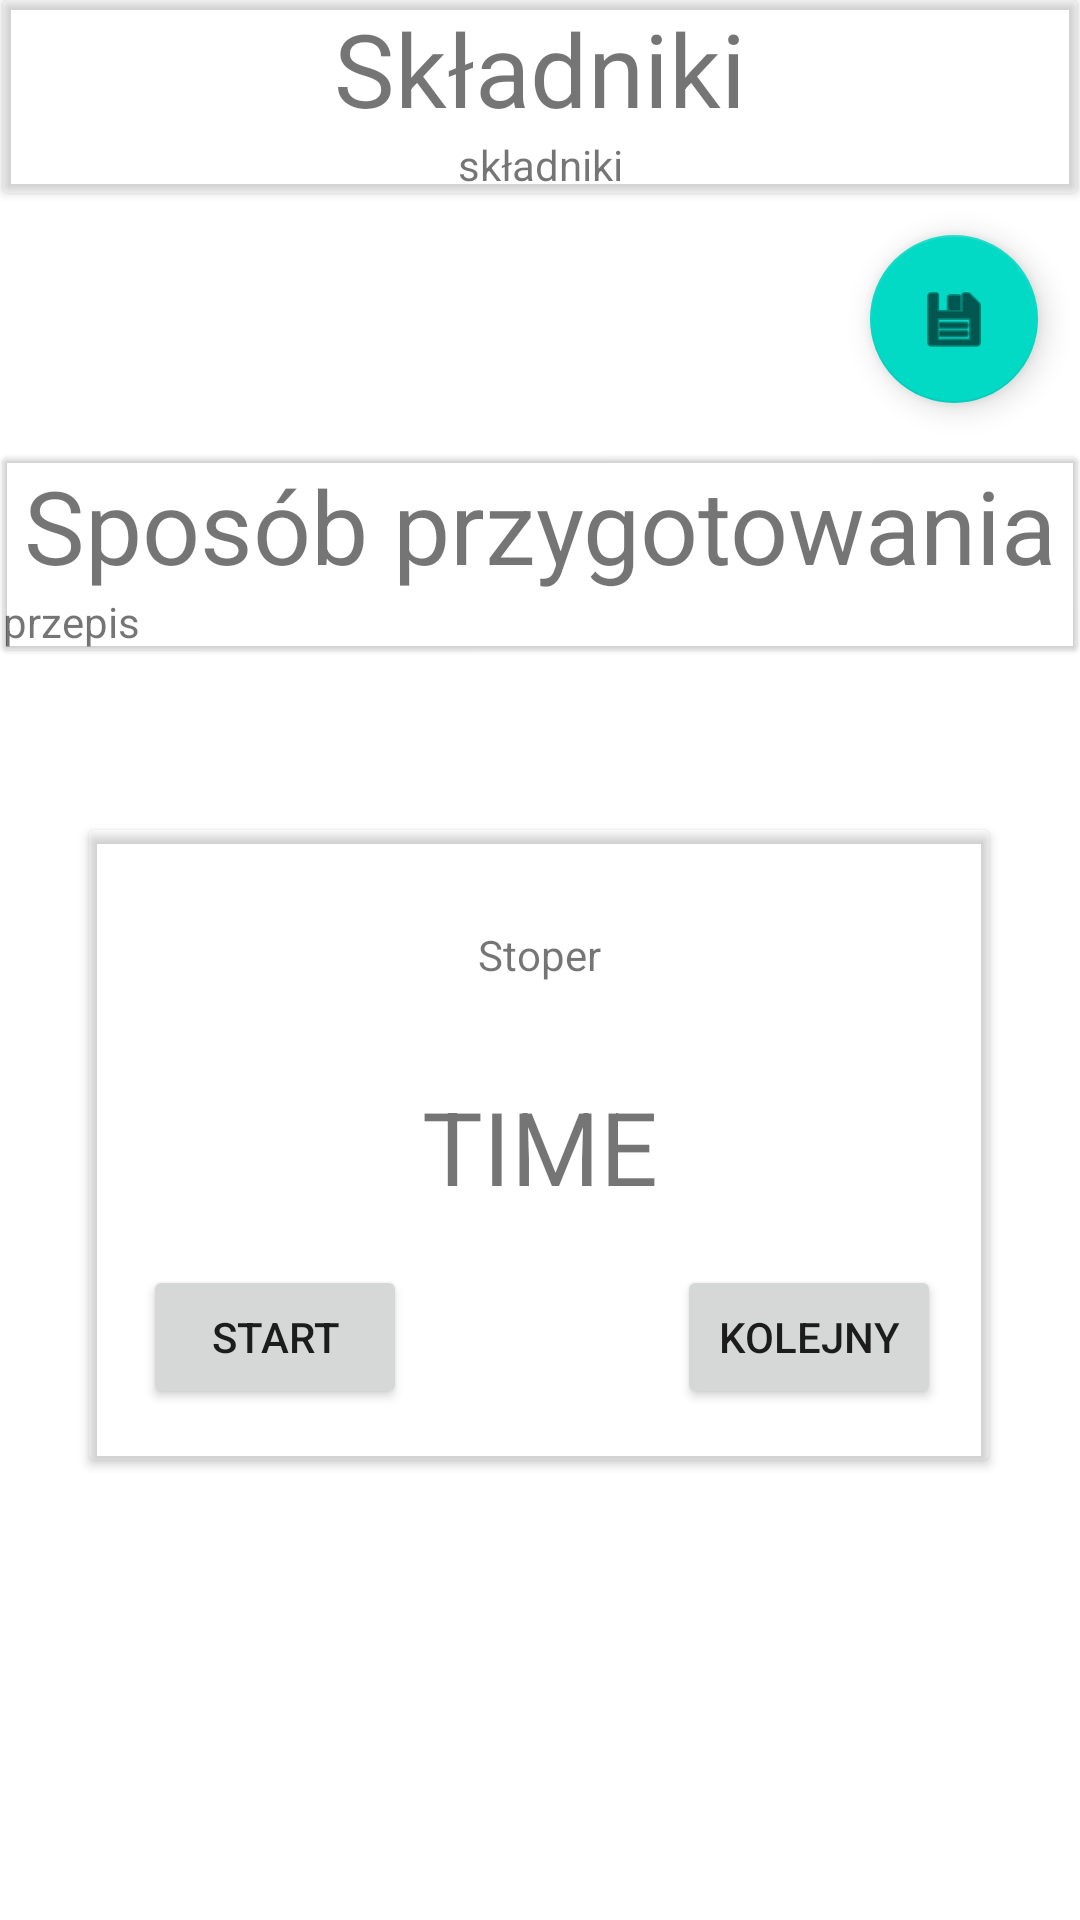

Where to tap for icons on this 1080w x 1920h app screen, as [x,y]:
save: [954,319]
